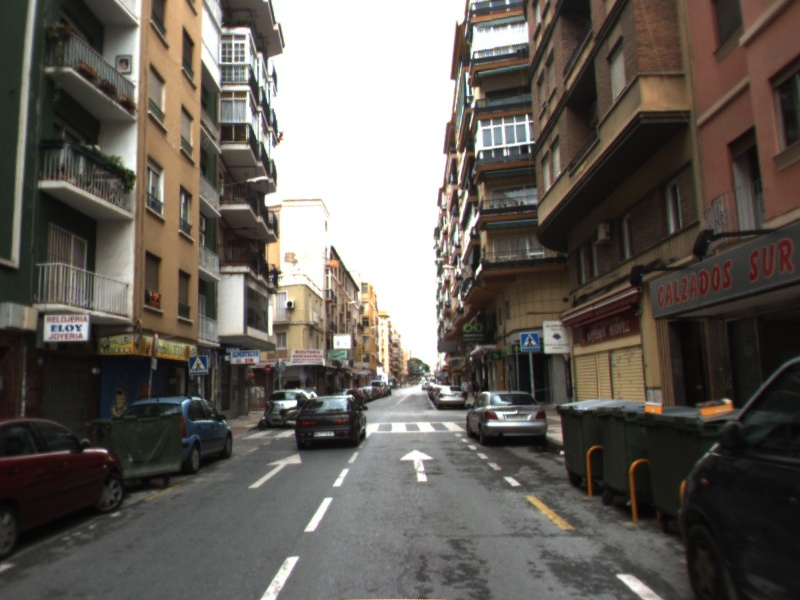STRAIGHT: (246, 451, 304, 490), (398, 447, 436, 483)
